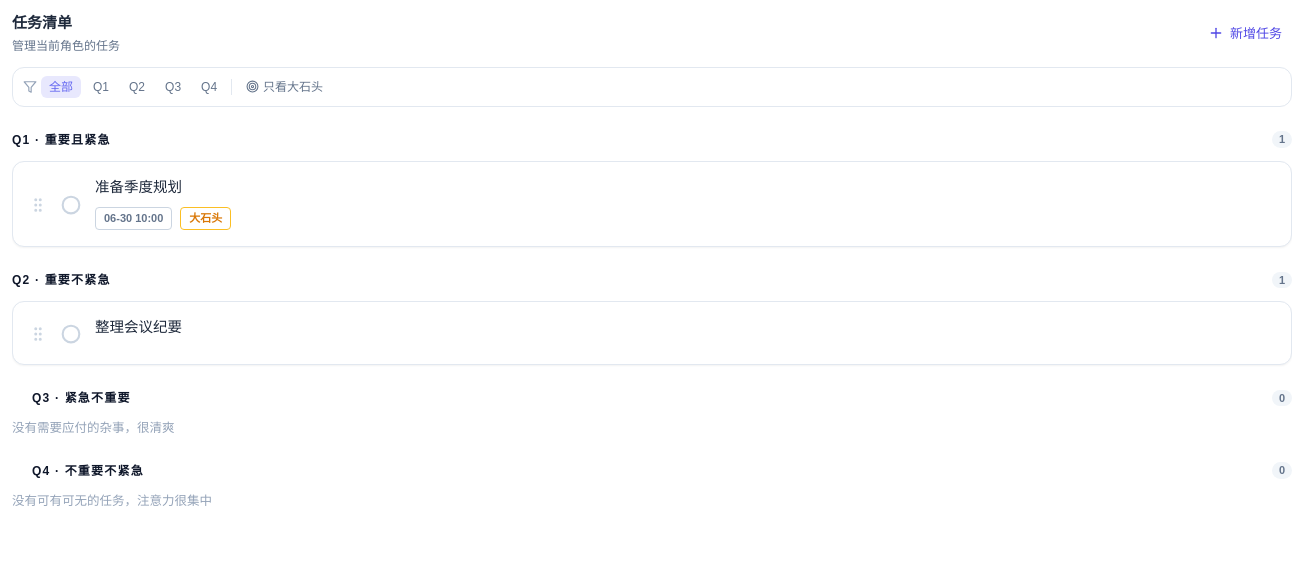
Test: TasksTab › toggleComplete 失败时显示内联中文错误文案
The width and height of the screenshot is (1304, 567).
Click the button named "完成 准备季度规划" at [71, 205], box [61,180,81,230]
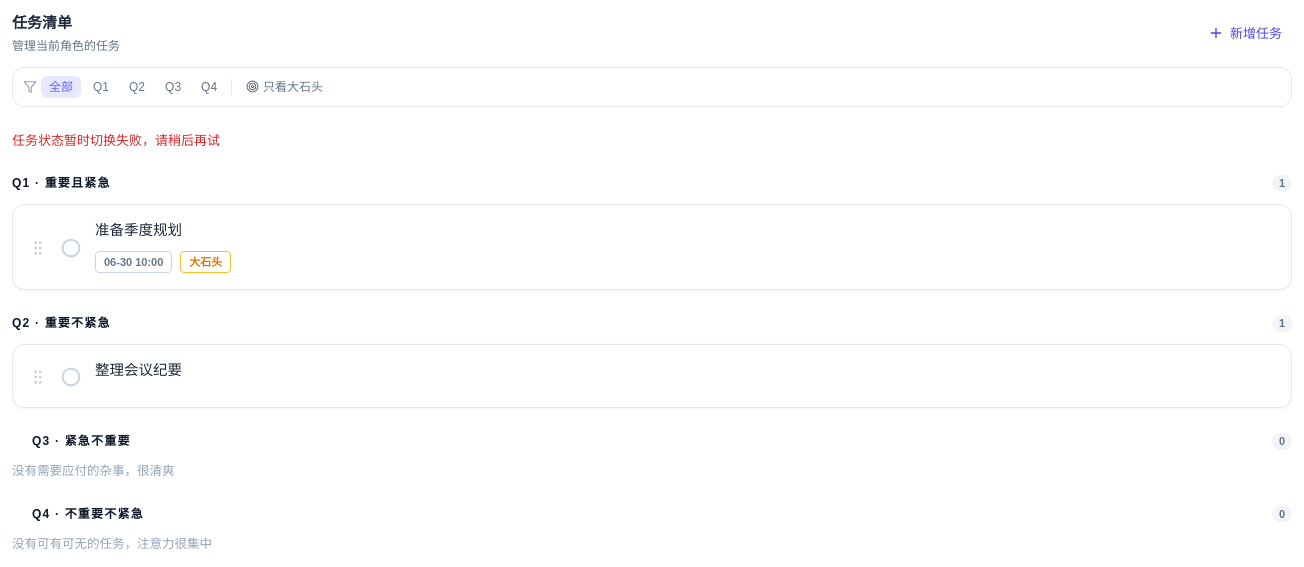
Check: the message reads "任务状态暂时切换失败，请稍后再试", box [12,132,220,148]
